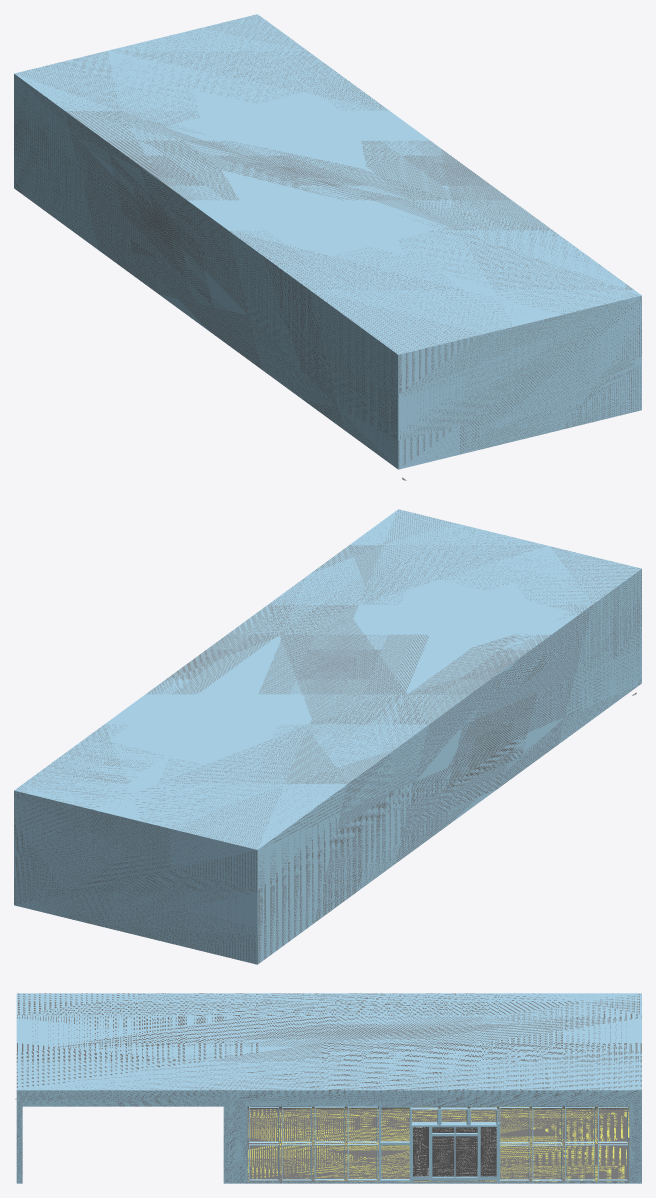
The model's file is store.glb.
3 views of the same model, one above another, from view 1: azimuth 30°, elevation 25°; view 2: azimuth 150°, elevation 25°; view 3: azimuth 270°, elevation 25° (orthographic). The views are drawn at different scales.
Visible parts, largest first — view 1: group_3_ID640; view 2: group_3_ID640; view 3: group_3_ID640, group_3.002_ID654, group_5.001_ID217, group_5.008_ID263, group_5.007_ID257, group_5.006_ID251, group_5.005_ID241.
Part boxes in pixels (x1,y1,x2,y2): group_3_ID640: (14,14,641,469); group_3_ID640: (14,509,641,964); group_3_ID640: (16,993,641,1183); group_3.002_ID654: (247,1106,629,1181); group_5.001_ID217: (409,1122,500,1181); group_5.008_ID263: (432,1136,454,1176); group_5.007_ID257: (455,1136,477,1176); group_5.006_ID251: (480,1127,496,1176); group_5.005_ID241: (413,1127,428,1176).
Size of the model in its own units: 93.74 by 45.39 by 251.
